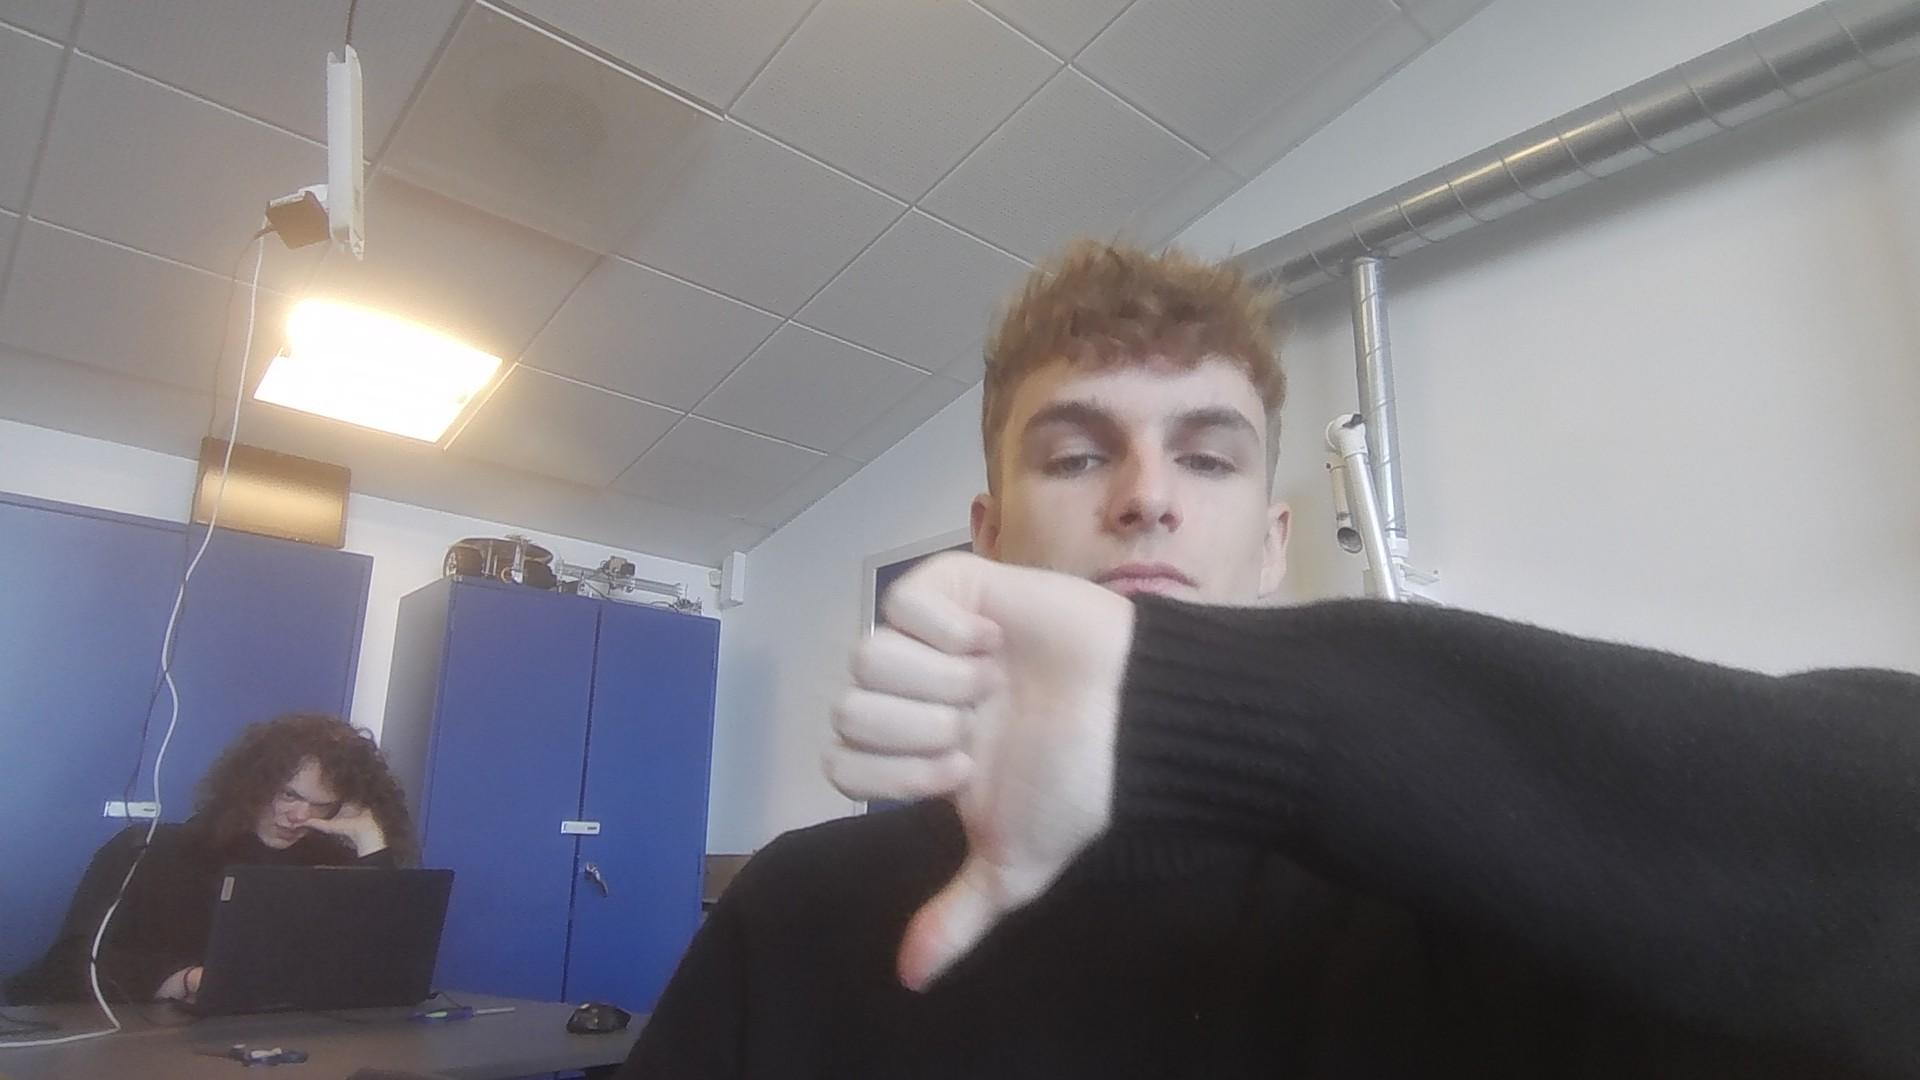thumbs down: (829, 551, 1142, 994)
